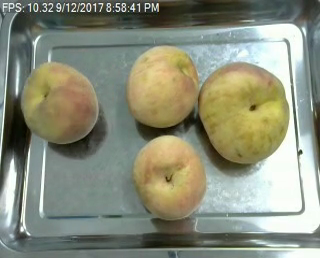Peach: (198, 61, 289, 164), (22, 60, 100, 145), (131, 135, 209, 219), (126, 43, 199, 127)
